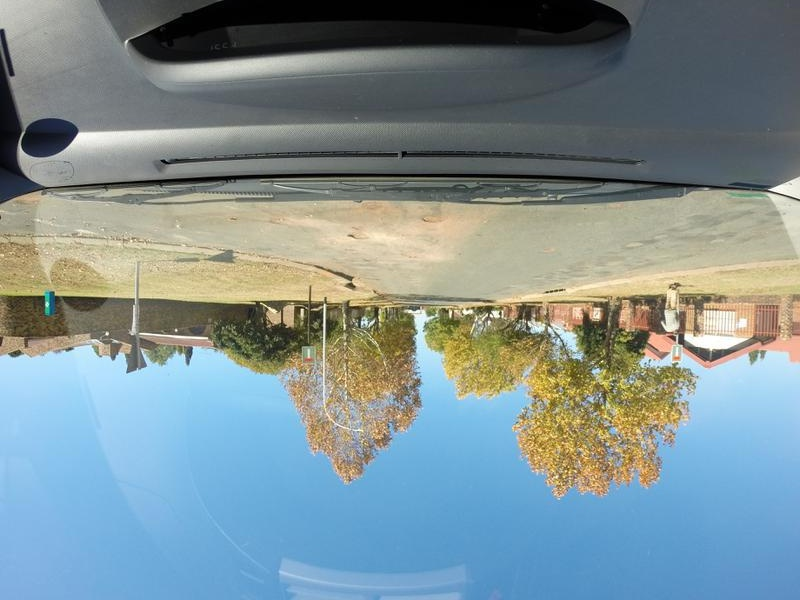pothole: (419, 206, 467, 226), (347, 222, 374, 239)
